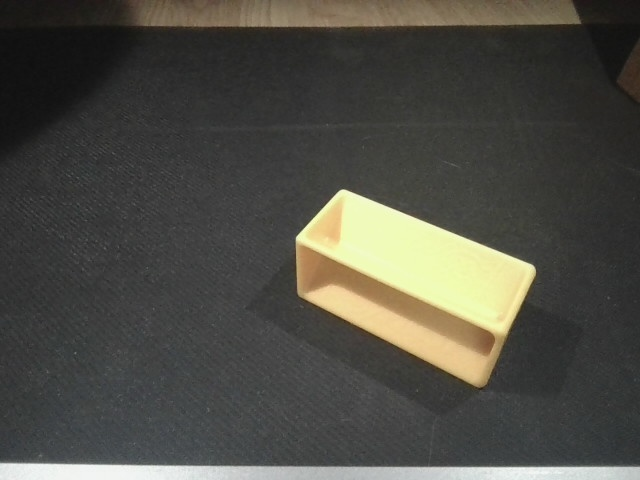YellowSample: (290, 187, 541, 394)
